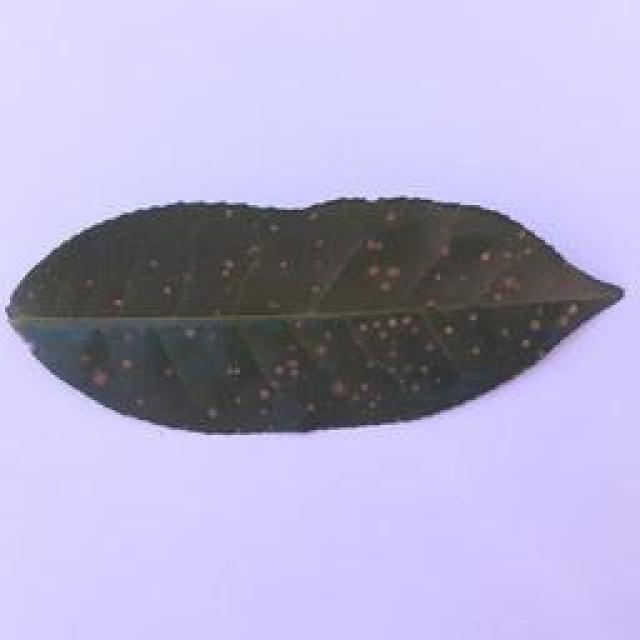Algal Leaf Spot: (2, 181, 640, 439)
